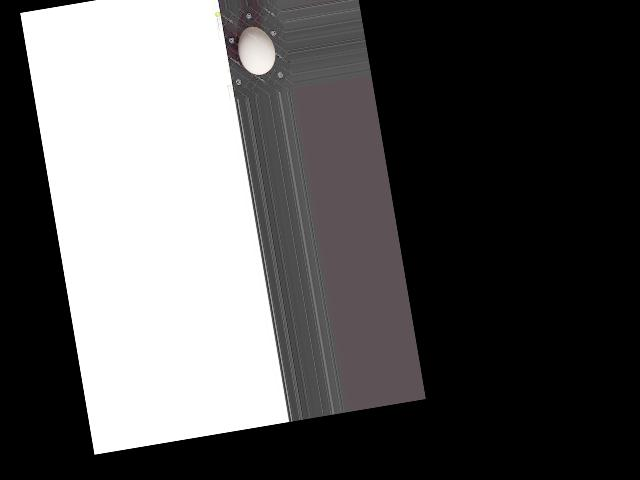egg: (234, 23, 278, 78)
